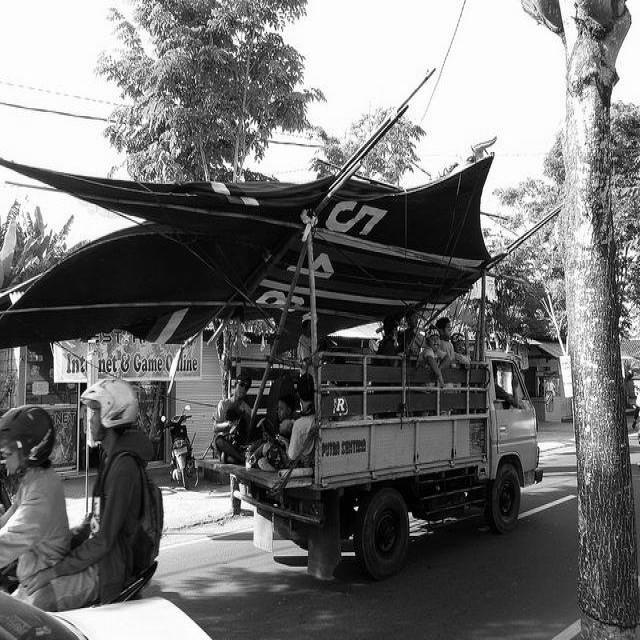vehicle: (210, 236, 545, 582), (0, 592, 218, 640), (159, 412, 195, 491)
